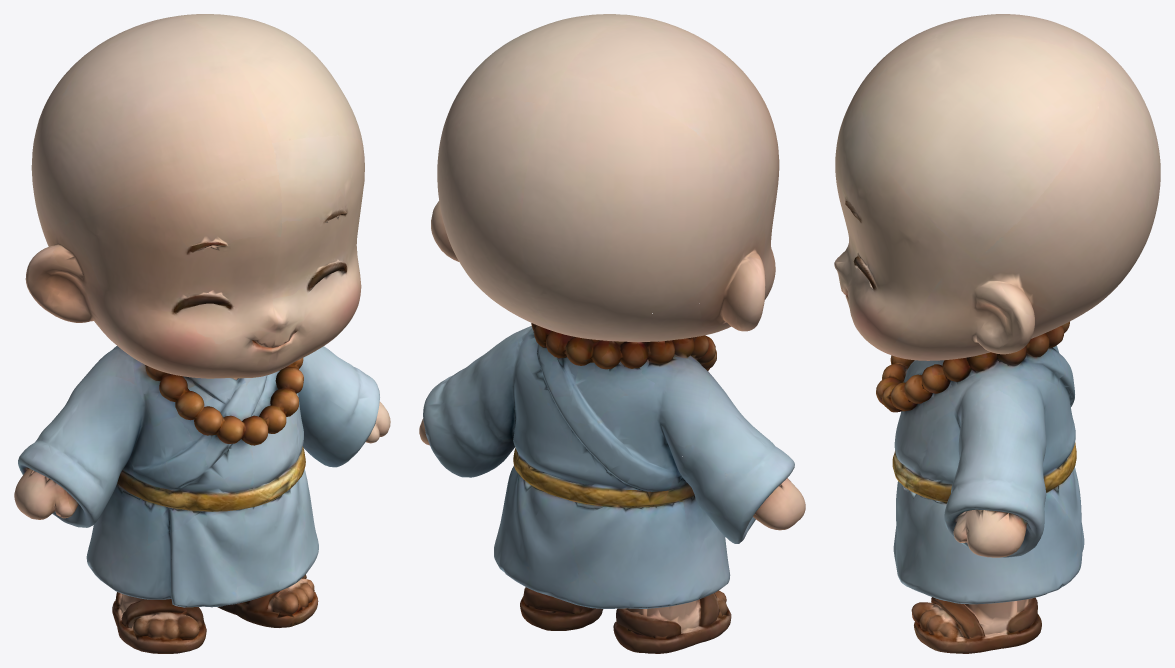
Rendered from monk2.glb.
3 renders of one model, left to right at view 1: azimuth 30°, elevation 25°; view 2: azimuth 150°, elevation 25°; view 3: azimuth 270°, elevation 25°, orthographic. The views are drawn at different scales.
Parts seen in each view (by area): view 1: tripo_node_8cd60323-3642-4a6c-9895-dabfcee96d44; view 2: tripo_node_8cd60323-3642-4a6c-9895-dabfcee96d44; view 3: tripo_node_8cd60323-3642-4a6c-9895-dabfcee96d44.
Boxes of the visible parts, <box> form: tripo_node_8cd60323-3642-4a6c-9895-dabfcee96d44: <box>14,14,390,653</box>; tripo_node_8cd60323-3642-4a6c-9895-dabfcee96d44: <box>419,14,805,653</box>; tripo_node_8cd60323-3642-4a6c-9895-dabfcee96d44: <box>834,14,1160,653</box>.
Size of the model in its own units: 1.29 by 1.96 by 1.
Materials: 1 (1 with a texture image).
